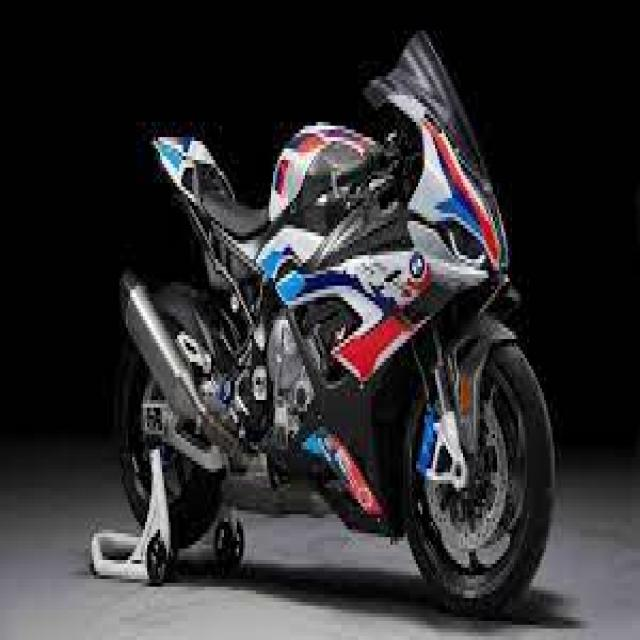Bike: (117, 28, 556, 617)
